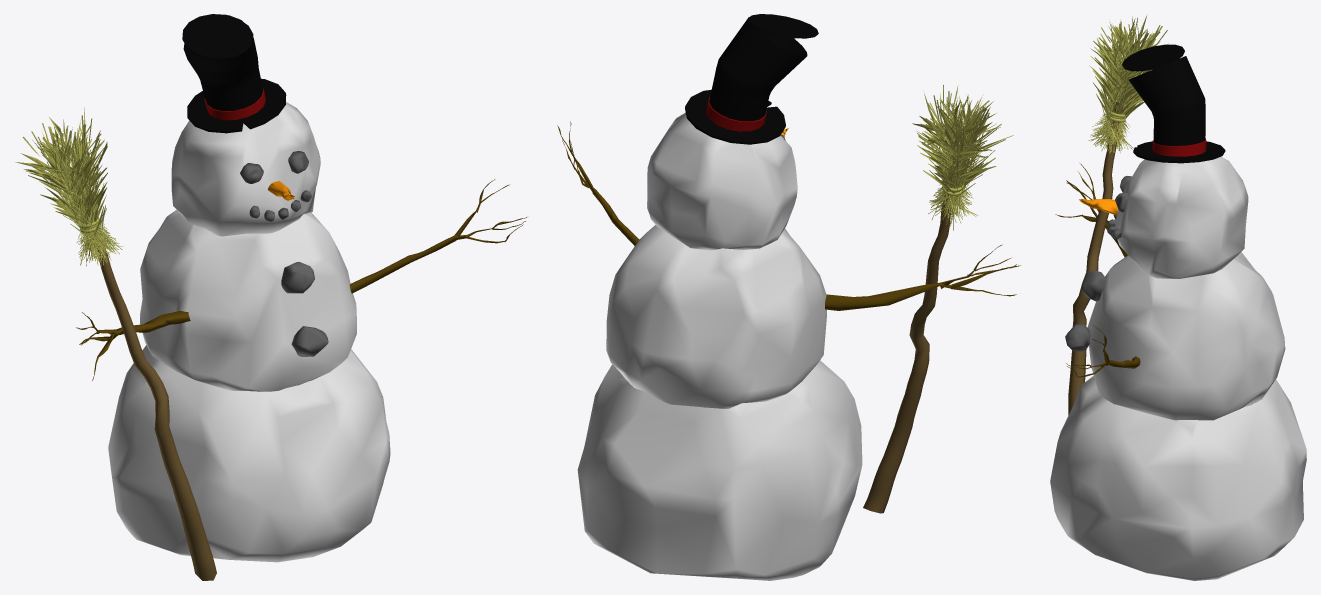
The model's file is snowman3.glb.
3 renders of one model, left to right at view 1: azimuth 30°, elevation 25°; view 2: azimuth 150°, elevation 25°; view 3: azimuth 270°, elevation 25°, orthographic. The views are drawn at different scales.
Parts seen in each view (by area): view 1: snowman; view 2: snowman; view 3: snowman.
Part boxes in pixels (bbox=[...]): snowman: bbox=[15, 14, 526, 580]; snowman: bbox=[557, 14, 1020, 580]; snowman: bbox=[1050, 16, 1306, 580].
Size of the model in its own units: 0.4708 by 0.493 by 0.243.
